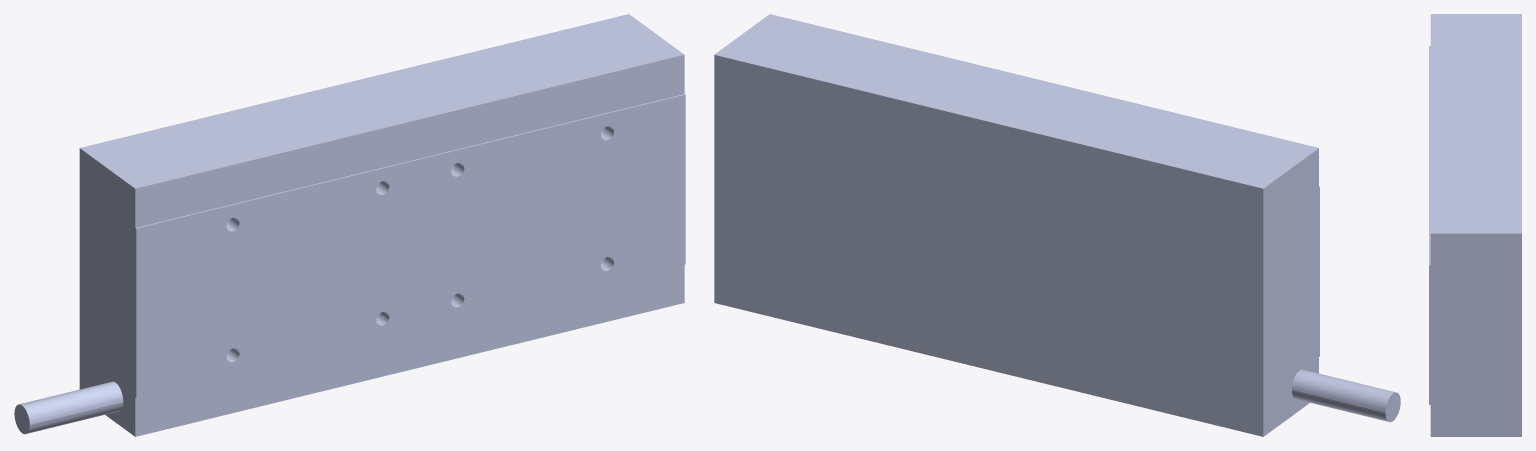
File: MTB-9.glb
3 views of the same model, side by side, from view 1: azimuth 30°, elevation 25°; view 2: azimuth 150°, elevation 25°; view 3: azimuth 270°, elevation 25° (orthographic). The views are drawn at different scales.
Visible parts, largest first — view 1: MTB-9_node_1; view 2: MTB-9_node_1; view 3: MTB-9_node_1.
Part boxes in pixels (x1,y1,x2,y2): MTB-9_node_1: [14, 14, 685, 436]; MTB-9_node_1: [714, 14, 1400, 436]; MTB-9_node_1: [1429, 14, 1521, 436].
Bounding box in the file's own units: 206 × 76 × 31.4.
